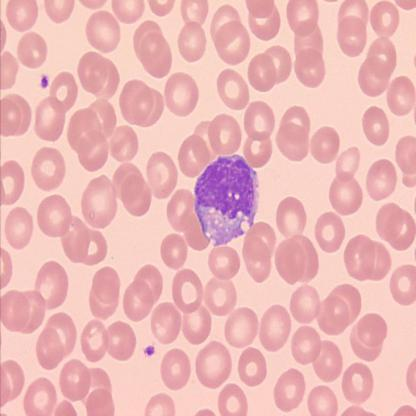Monocyte: (192, 152, 262, 248)
